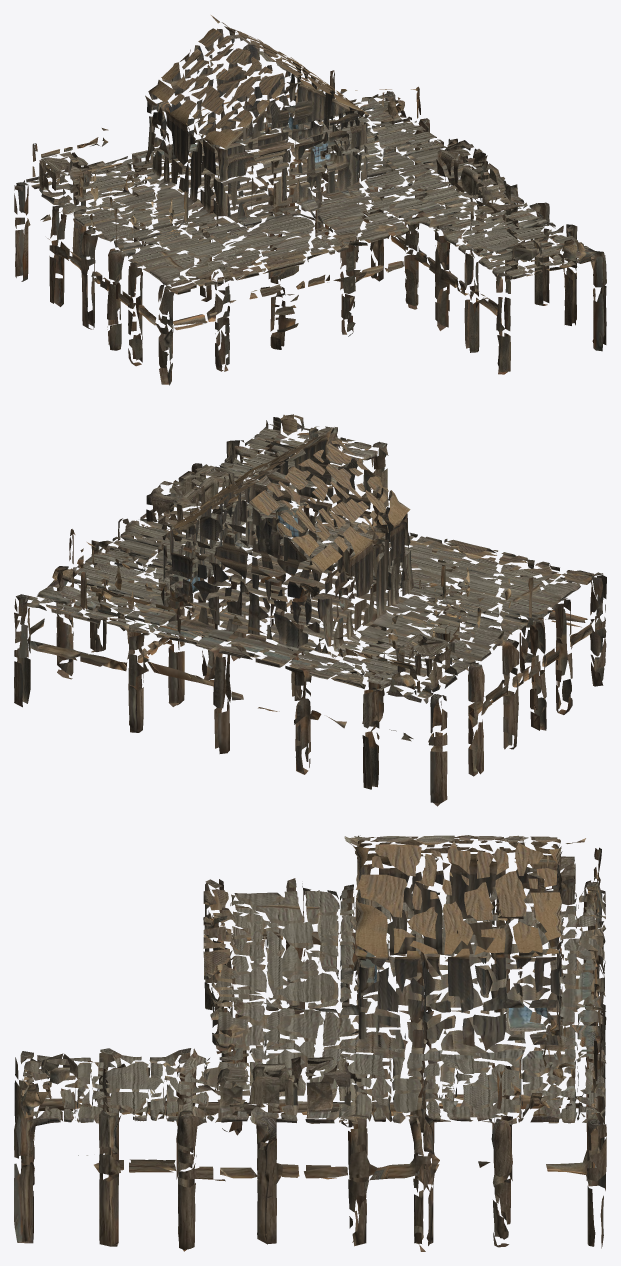
File: fischerhuette.glb
3 renders of one model, top to bottom at view 1: azimuth 30°, elevation 25°; view 2: azimuth 150°, elevation 25°; view 3: azimuth 270°, elevation 25°, orthographic. The views are drawn at different scales.
Bounding box in the file's own units: 1.85 × 1.04 × 1.9.
1 material, 1 textured.
